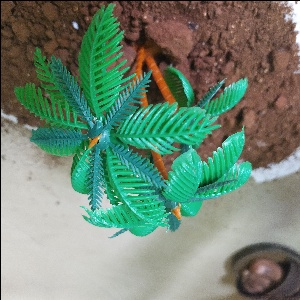plant: (42, 32, 235, 218)
